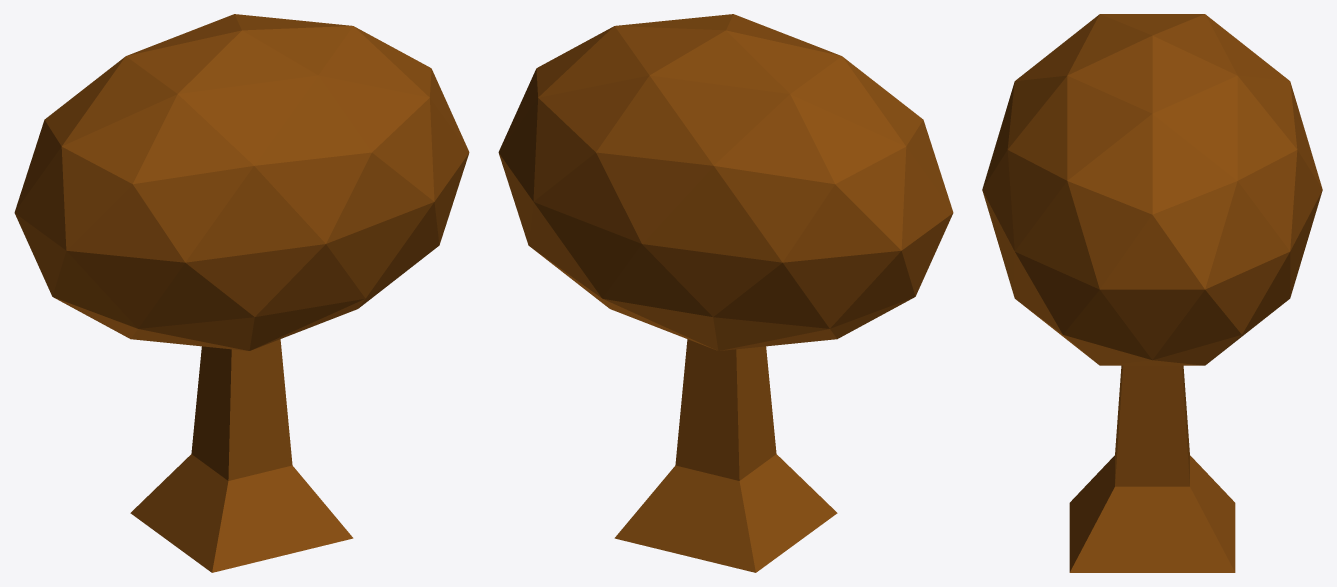
3 views of the same model, side by side, from view 1: azimuth 30°, elevation 25°; view 2: azimuth 150°, elevation 25°; view 3: azimuth 270°, elevation 25° (orthographic).
Parts seen in each view (by area): view 1: Cube; view 2: Cube; view 3: Cube.
Boxes of the visible parts, x1,y1,x2,y2 form: Cube: (14,14,469,572); Cube: (498,14,953,572); Cube: (982,14,1322,572).
Size of the model in its own units: 1277 by 1500 by 922.
